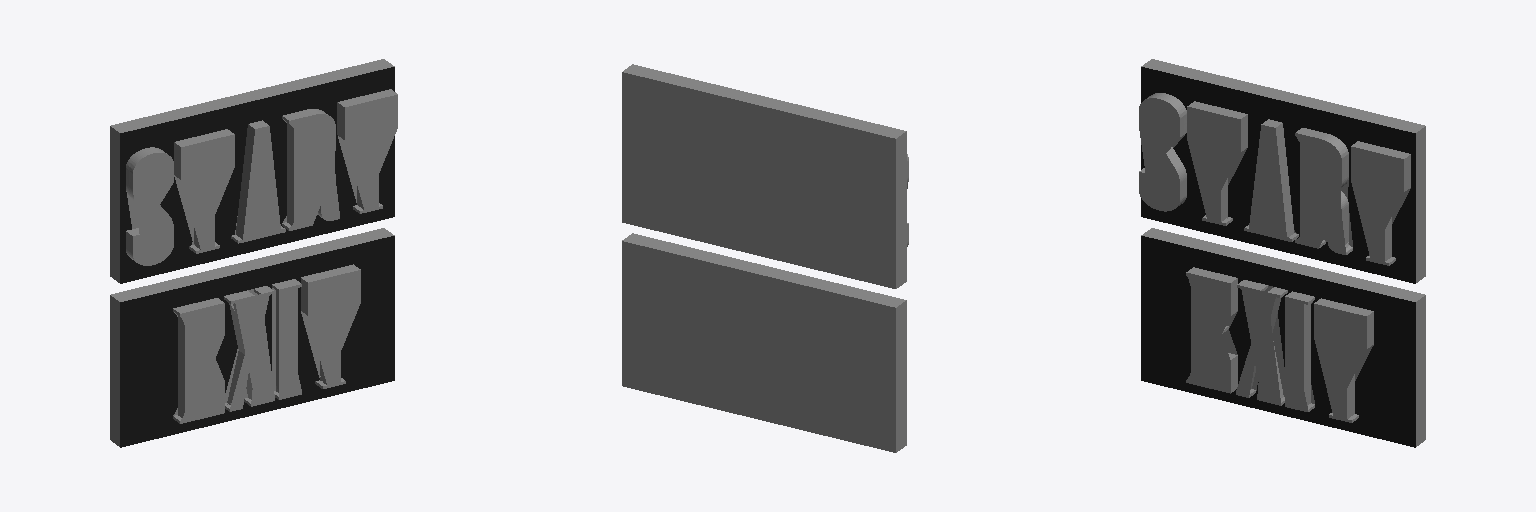
The picture shows the model from 3 angles: view 1: azimuth 30°, elevation 25°; view 2: azimuth 150°, elevation 25°; view 3: azimuth 330°, elevation 25°; orthographic projection.
Parts seen in each view (by area): view 1: ExitB, StartT, StartB, ExitT; view 2: StartB, ExitB, ExitB001_frag_066, StartB001_frag_049, ExitB001_frag_013, StartB001_frag_036, ExitB001_frag_045, ExitB001_frag_061, ExitB001_frag_023, ExitB001_frag_055, StartB001_frag_078, ExitB001_frag_038 (+1 smaller); view 3: ExitB, StartT, StartB, ExitT, StartT001_frag_074.
Part boxes in pixels (x1,y1,x2,y2): ExitB: (110,228,394,447); StartT: (126,89,397,265); StartB: (110,59,394,283); ExitT: (173,264,360,423); StartB: (622,64,906,288); ExitB: (622,233,906,452); ExitB001_frag_066: (869,351,903,388); StartB001_frag_049: (622,109,652,142); ExitB001_frag_013: (815,347,853,375); StartB001_frag_036: (622,142,655,166); ExitB001_frag_045: (850,335,873,376); ExitB001_frag_061: (763,378,812,411); ExitB001_frag_023: (706,337,752,386); ExitB001_frag_055: (822,382,862,426); StartB001_frag_078: (622,64,645,110); ExitB001_frag_038: (792,350,820,385); ExitB: (1141,229,1425,446); StartT: (1139,93,1410,265); StartB: (1141,60,1425,283); ExitT: (1186,267,1373,419); StartT001_frag_074: (1307,172,1345,214).
Bounding box in the file's own units: 10.88 × 11.92 × 1.24.